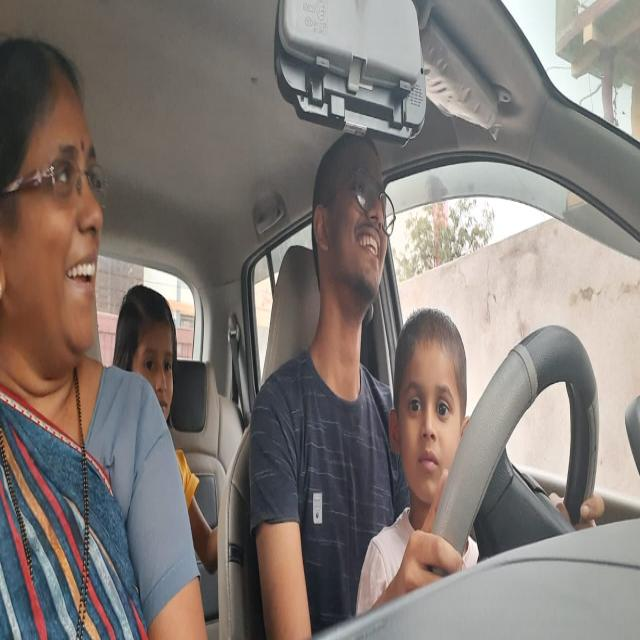child: (391, 296, 463, 499)
person: (0, 44, 111, 385), (309, 126, 397, 308), (119, 296, 190, 414)
